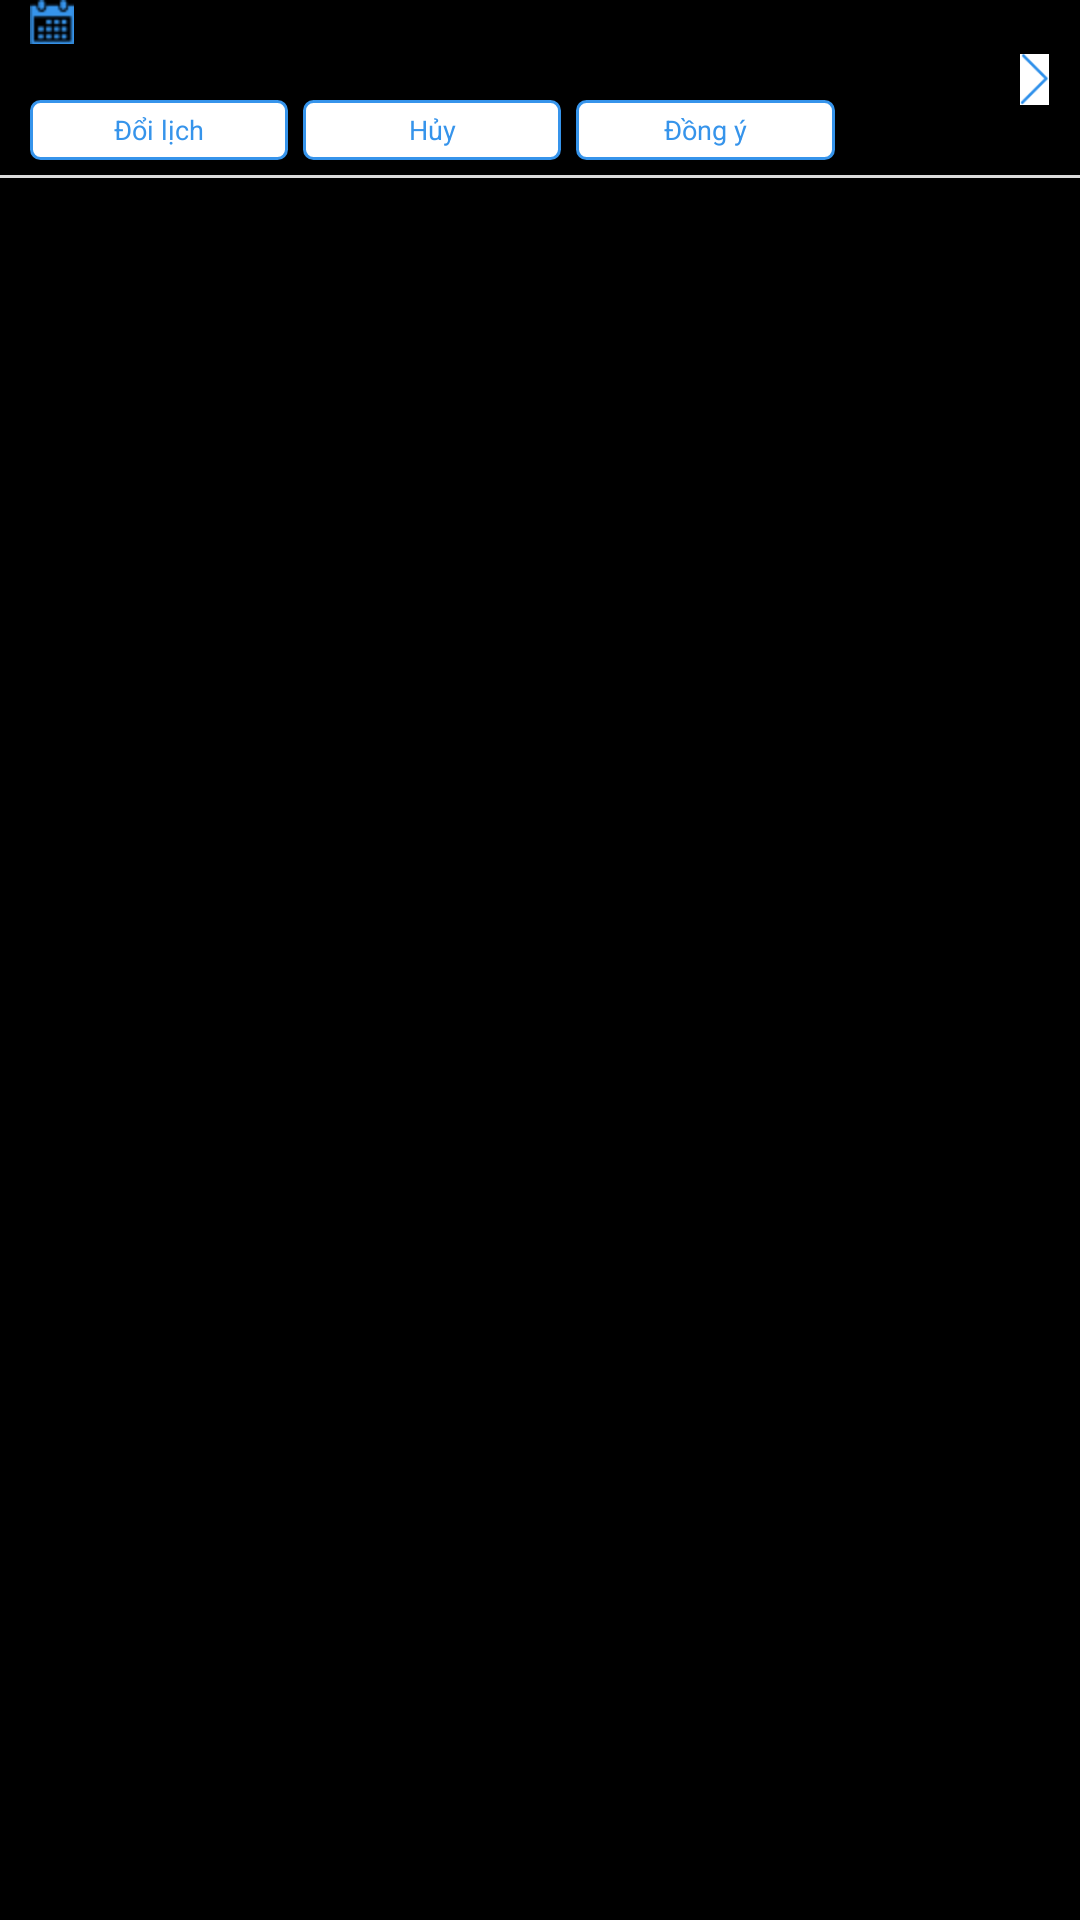

Point at icon controls on the screen. Image size 1080px×1920px, points as (x,y).
calendar: (52,22)
next highlight: (1034,79)
